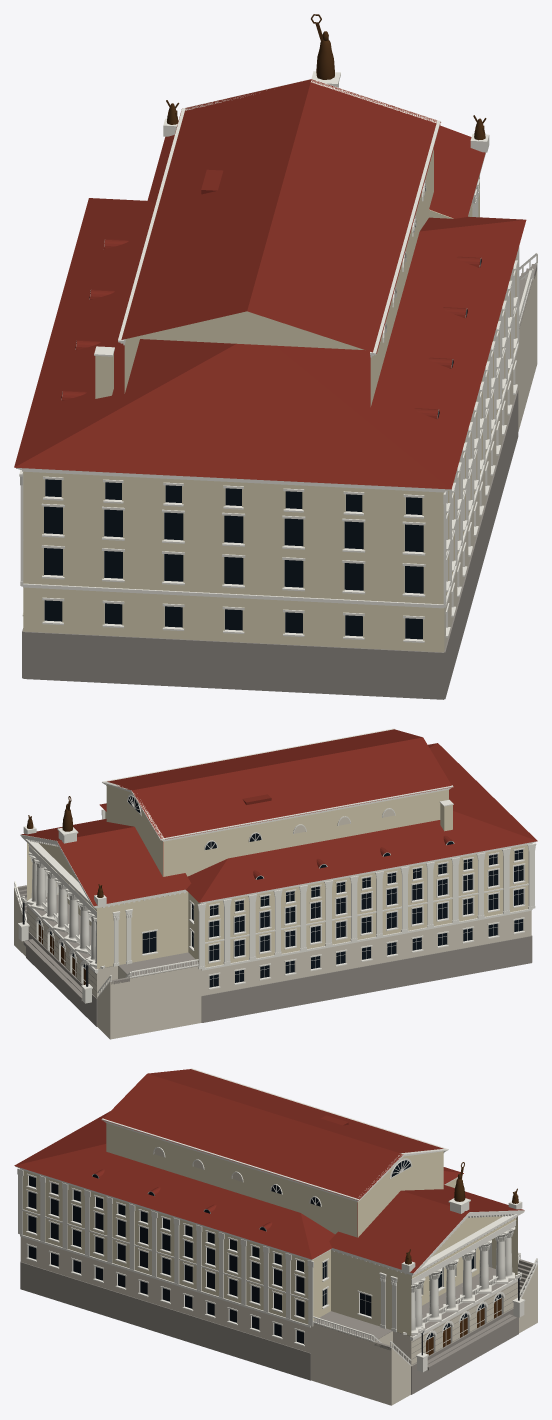
File: theatre_lunacharsky.glb
The picture shows the model from 3 angles, top to bottom: view 1: azimuth 30°, elevation 25°; view 2: azimuth 150°, elevation 25°; view 3: azimuth 270°, elevation 25°; orthographic projection. The views are drawn at different scales.
Visible parts, largest first — view 1: theatre_lunacharsky_roof, theatre_lunacharsky_wall, theatre_lunacharsky_stone, theatre_lunacharsky_trim, theatre_lunacharsky_glass, theatre_lunacharsky_wall2, theatre_lunacharsky_wood; view 2: theatre_lunacharsky_roof, theatre_lunacharsky_wall, theatre_lunacharsky_trim, theatre_lunacharsky_wall2, theatre_lunacharsky_stone, theatre_lunacharsky_glass, theatre_lunacharsky_trim_s, theatre_lunacharsky_wood; view 3: theatre_lunacharsky_roof, theatre_lunacharsky_wall, theatre_lunacharsky_trim, theatre_lunacharsky_wall2, theatre_lunacharsky_stone, theatre_lunacharsky_glass, theatre_lunacharsky_trim_s, theatre_lunacharsky_wood.
Boxes of the visible parts, left/top/right/bottom form: theatre_lunacharsky_roof: left=14, top=79, right=526, bottom=489; theatre_lunacharsky_wall: left=23, top=149, right=516, bottom=652; theatre_lunacharsky_stone: left=22, top=264, right=537, bottom=699; theatre_lunacharsky_trim: left=16, top=71, right=537, bottom=642; theatre_lunacharsky_glass: left=44, top=188, right=481, bottom=639; theatre_lunacharsky_wall2: left=384, top=255, right=537, bottom=650; theatre_lunacharsky_wood: left=166, top=14, right=486, bottom=140; theatre_lunacharsky_roof: left=21, top=729, right=537, bottom=906; theatre_lunacharsky_wall: left=27, top=785, right=528, bottom=968; theatre_lunacharsky_trim: left=14, top=728, right=536, bottom=1003; theatre_lunacharsky_wall2: left=14, top=809, right=531, bottom=1039; theatre_lunacharsky_stone: left=15, top=885, right=532, bottom=1026; theatre_lunacharsky_glass: left=39, top=796, right=523, bottom=987; theatre_lunacharsky_trim_s: left=31, top=863, right=96, bottom=964; theatre_lunacharsky_wood: left=27, top=796, right=103, bottom=984; theatre_lunacharsky_roof: left=14, top=1069, right=524, bottom=1273; theatre_lunacharsky_wall: left=23, top=1123, right=517, bottom=1335; theatre_lunacharsky_trim: left=15, top=1068, right=537, bottom=1372; theatre_lunacharsky_wall2: left=20, top=1148, right=537, bottom=1405; theatre_lunacharsky_stone: left=20, top=1259, right=535, bottom=1394; theatre_lunacharsky_glass: left=28, top=1160, right=501, bottom=1343; theatre_lunacharsky_trim_s: left=411, top=1237, right=512, bottom=1331; theatre_lunacharsky_wood: left=405, top=1162, right=518, bottom=1355.
Bounding box in the file's own units: 68.9 × 31.44 × 75.26.
